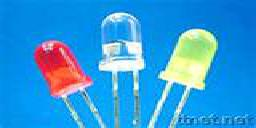LED: (97, 9, 146, 128), (155, 24, 222, 107), (30, 39, 93, 106)
